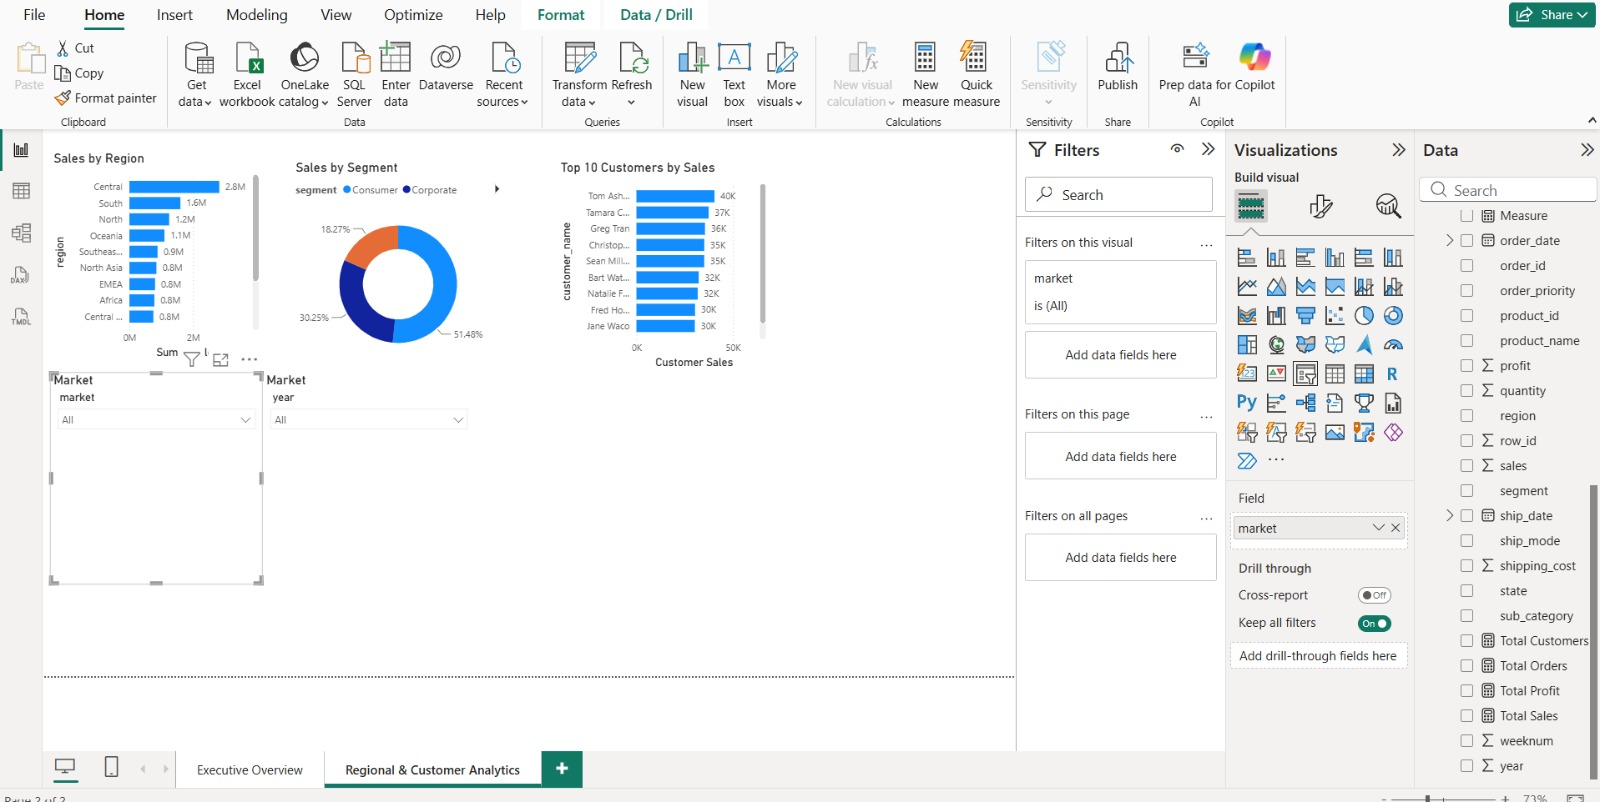

This screenshot's page, from the dashboard's own definition file:
{"tool":"powerbi","page":{"name":"Regional & Customer Analytics","canvas":[1280,720],"ordinal":1},"visuals":[{"type":"clusteredBarChart","title":"Sales by Region","fields":{"Category":["regional_performance.region"],"Y":["Sum(regional_performance.sales)"]},"box":[9.6,27.4,279.9,279.9],"z":0},{"type":"donutChart","title":"Sales by Segment","fields":{"Category":["segment_performance.segment"],"Y":["Sum(segment_performance.sales)"]},"box":[328,39.8,279.9,279.9],"z":1000},{"type":"clusteredBarChart","title":"Top 10 Customers by Sales","fields":{"Category":["superstore_clean.customer_name"],"Y":["superstore_clean.Customer Sales"]},"box":[676.5,39.8,279.9,279.9],"z":2000},{"type":"slicer","title":"Market","fields":{"Values":["superstore_clean.market"]},"box":[10,320,280,280],"z":3000},{"type":"slicer","title":"Market","fields":{"Values":["superstore_clean.year"]},"box":[289.5,319.7,279.9,281.3],"z":4000}]}

Visuals, with their boxes on the page's 1280x720 design canvas (x1, y1, x2, y2). These are canvas units, not pixel positions in the 1600x802 screenshot, which may show the page scaled, cropped or inside an application window:
"Sales by Region" clusteredBarChart: region(10, 27, 290, 307)
"Sales by Segment" donutChart: region(328, 40, 608, 320)
"Top 10 Customers by Sales" clusteredBarChart: region(676, 40, 956, 320)
"Market" slicer: region(10, 320, 290, 600)
"Market" slicer: region(290, 320, 569, 601)
